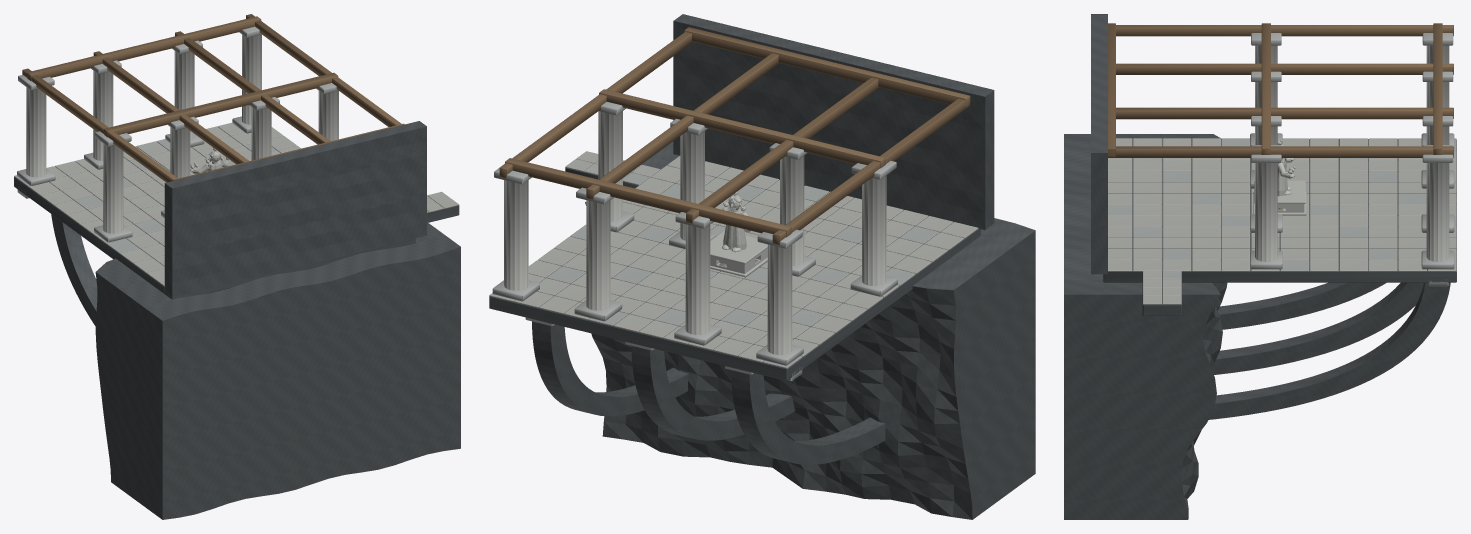
File: retreat_expanded_a5.glb
The picture shows the model from 3 angles, left to right: view 1: azimuth 30°, elevation 25°; view 2: azimuth 150°, elevation 25°; view 3: azimuth 270°, elevation 25°; orthographic projection. The views are drawn at different scales.
Visible parts, largest first — view 1: VTT_Cliff_Bounded_Anchor, CANON_North_Carved_Rock_Wall, CANON_Floor_Temple, CANON_Exposed_Timber_Frame, CANON_Column_-4.12_0.35, CANON_Column_-4.12_-4.02, CANON_Arched_Support_-3, CANON_Column_-1.5_-4.02, CANON_Column_1.5_-4.02, CANON_Column_4.12_-4.02, CANON_Column_1.5_0.35, CANON_Column_-1.5_0.35 (+2 smaller); view 2: VTT_Cliff_Bounded_Anchor, CANON_Floor_Temple, CANON_North_Carved_Rock_Wall, CANON_Exposed_Timber_Frame, CANON_Arched_Support_-3, CANON_Arched_Support_0, CANON_Arched_Support_3, CANON_Column_-4.12_-4.02, CANON_Column_-1.5_-4.02, CANON_Column_1.5_-4.02, CANON_Column_4.12_-4.02, CANON_Column_-4.12_0.35 (+6 smaller); view 3: CANON_Floor_Temple, VTT_Cliff_Bounded_Anchor, CANON_Exposed_Timber_Frame, CANON_Arched_Support_3, CANON_Arched_Support_0, CANON_North_Carved_Rock_Wall, CANON_Arched_Support_-3, CANON_Column_4.12_-4.02, CANON_Column_4.12_0.35, CANON_Floor_East_Connection, CANON_Bahamut_Pedestal, CANON_Column_-1.5_-4.02 (+6 smaller).
Boxes of the visible parts, x1,y1,x2,y2 form: VTT_Cliff_Bounded_Anchor: (95,222,460,519); CANON_North_Carved_Rock_Wall: (164,121,426,297); CANON_Floor_Temple: (14,122,415,299); CANON_Exposed_Timber_Frame: (22,14,404,182); CANON_Column_-4.12_0.35: (94,131,132,242); CANON_Column_-4.12_-4.02: (17,75,55,185); CANON_Arched_Support_-3: (51,214,97,325); CANON_Column_-1.5_-4.02: (84,60,121,169); CANON_Column_1.5_-4.02: (165,40,204,147); CANON_Column_4.12_-4.02: (232,26,261,133); CANON_Column_1.5_0.35: (249,97,279,160); CANON_Column_-1.5_0.35: (161,116,198,218); VTT_Cliff_Bounded_Anchor: (585,141,1035,519); CANON_Floor_Temple: (489,156,980,380); CANON_North_Carved_Rock_Wall: (673,14,994,229); CANON_Exposed_Timber_Frame: (499,27,970,244); CANON_Arched_Support_-3: (724,366,885,464); CANON_Arched_Support_0: (625,341,795,440); CANON_Arched_Support_3: (525,317,688,416); CANON_Column_-4.12_-4.02: (756,229,803,365); CANON_Column_-1.5_-4.02: (674,212,721,345); CANON_Column_1.5_-4.02: (574,187,622,321); CANON_Column_4.12_-4.02: (492,168,539,301); CANON_Column_-4.12_0.35: (850,160,897,296); CANON_Floor_Temple: (1103,138,1456,282); VTT_Cliff_Bounded_Anchor: (1064,134,1227,519); CANON_Exposed_Timber_Frame: (1108,23,1453,157); CANON_Arched_Support_3: (1208,282,1450,419); CANON_Arched_Support_0: (1211,282,1423,374); CANON_North_Carved_Rock_Wall: (1091,14,1107,274); CANON_Arched_Support_-3: (1217,282,1386,329); CANON_Column_4.12_-4.02: (1421,145,1454,269); CANON_Column_4.12_0.35: (1250,145,1282,269); CANON_Floor_East_Connection: (1142,271,1181,315); CANON_Bahamut_Pedestal: (1253,180,1306,215); CANON_Column_-1.5_-4.02: (1421,71,1454,188).
Size of the model in its own units: 16.33 by 15.02 by 15.
8 materials, 1 textured.
